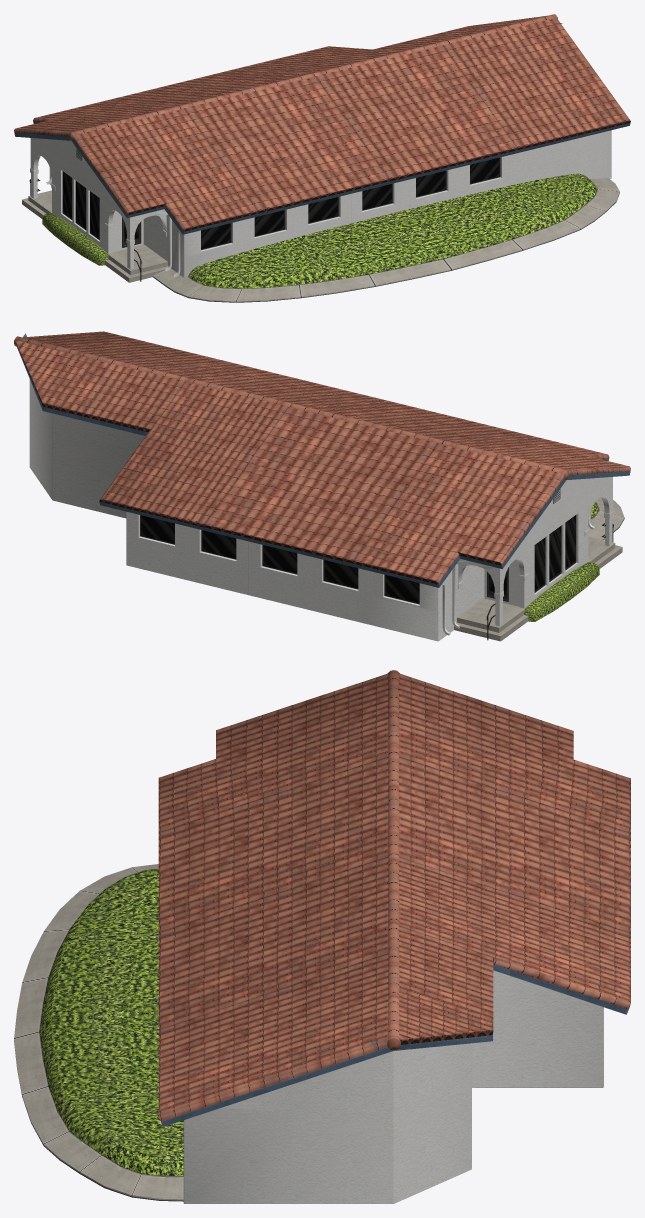
Rendered from osrf_first_office.dae.
3 views of the same model, one above another, from view 1: azimuth 30°, elevation 25°; view 2: azimuth 150°, elevation 25°; view 3: azimuth 270°, elevation 25° (orthographic). The views are drawn at different scales.
Parts seen in each view (by area): view 1: OSRFOffice; view 2: OSRFOffice; view 3: OSRFOffice.
Part boxes in pixels (bbox=[...]): OSRFOffice: bbox=[14, 14, 630, 302]; OSRFOffice: bbox=[14, 331, 630, 641]; OSRFOffice: bbox=[14, 670, 630, 1203].
Size of the model in its own units: 1031 by 721 by 226.
Materials: 1 (1 with a texture image).
